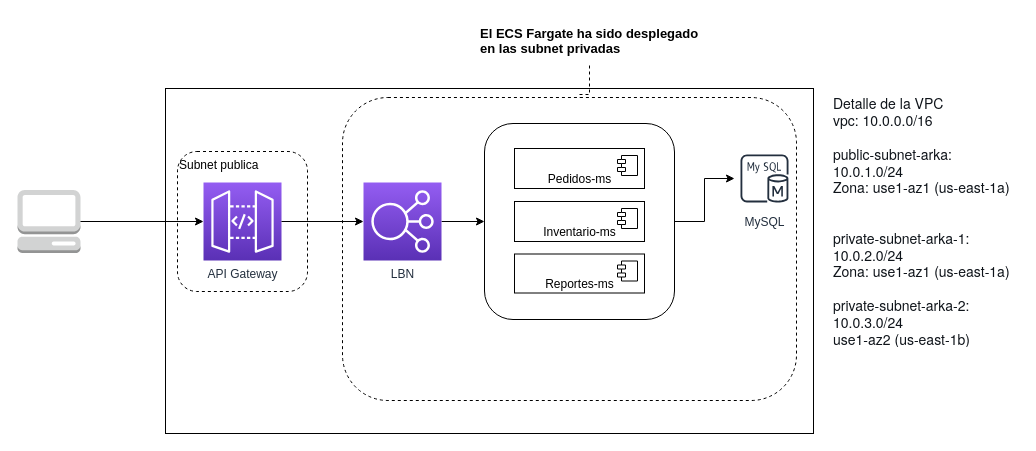
Some shapes in this 1036 by 451 pixel diagram are drawn without their labels. The shapes that lost their labels are listed below. From the top down, each one's box as (x1, y1, x2, y2) in pixels, then its label:
(16, 189, 80, 253): Usuario
(484, 122, 674, 320): ECS Fargate
(164, 88, 814, 434): VPC
(342, 96, 796, 400): Subnet privadas
